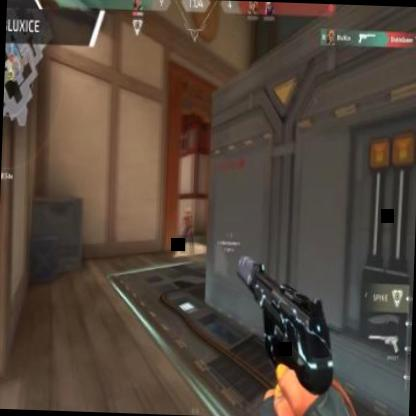enemy: (182, 206, 196, 258)
enemy_head: (186, 208, 192, 217)
